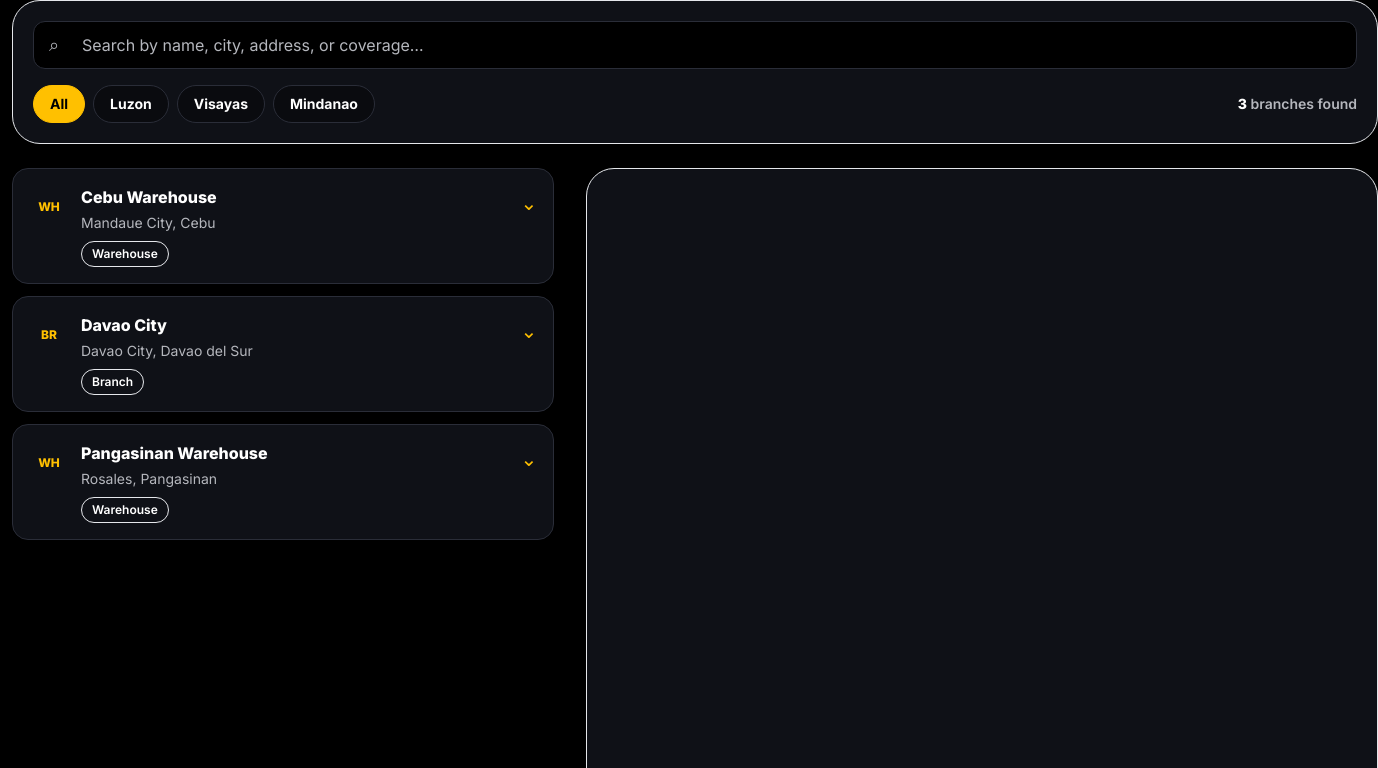
Test: BranchLocator › searches branch fields and reports the live count
Check: the text "3" is shown, box 1238,95 -> 1247,112
In the search field named "Search branches": (695, 45) 33,21 -> 1357,69, type "cebu"
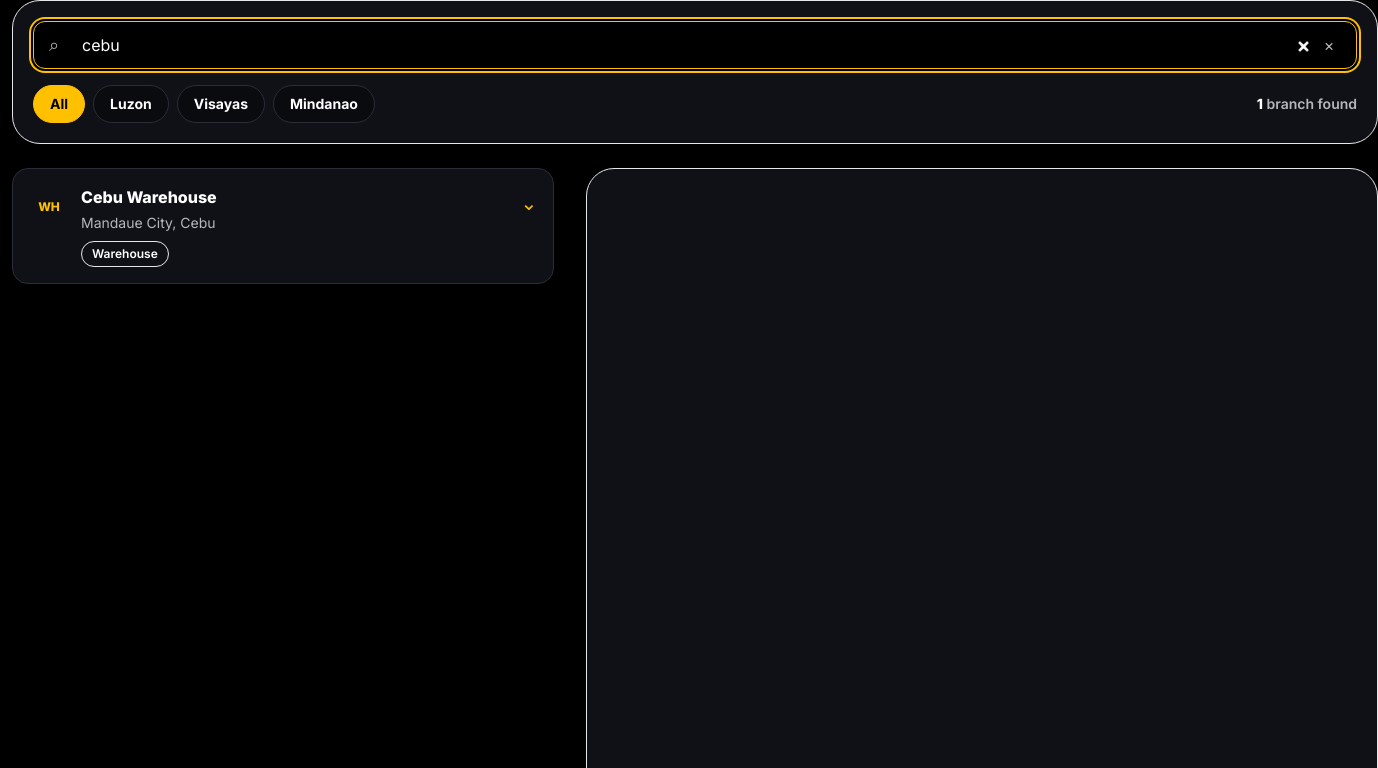
Check: the text "Cebu Warehouse" is shown, box 81,187 -> 217,207
Check: the button "Davao City" is gone
Check: the text "1" is shown, box 1257,95 -> 1263,112
